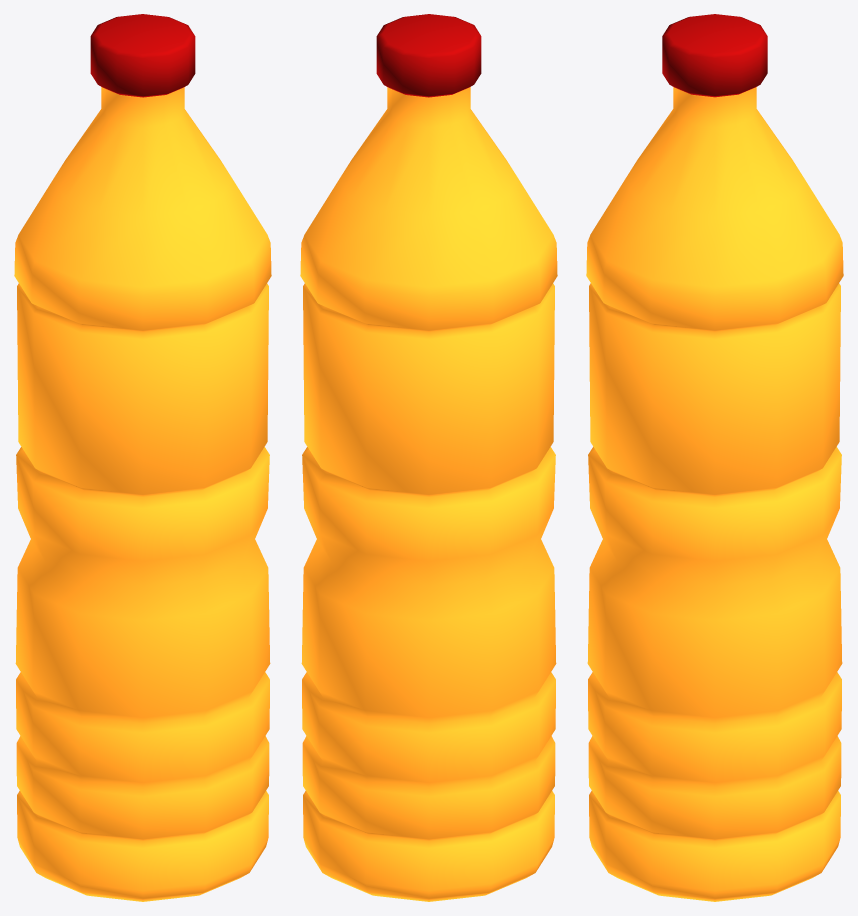
Rendered from bottle.fbx.
The picture shows the model from 3 angles, left to right: view 1: azimuth 30°, elevation 25°; view 2: azimuth 150°, elevation 25°; view 3: azimuth 270°, elevation 25°; orthographic projection.
Visible parts, largest first — view 1: Container_Bottle, Container_Bottle_Lid; view 2: Container_Bottle, Container_Bottle_Lid; view 3: Container_Bottle, Container_Bottle_Lid.
Part boxes in pixels (x1=…): Container_Bottle: x1=14, y1=87, x2=271, y2=901; Container_Bottle_Lid: x1=90, y1=14, x2=195, y2=97; Container_Bottle: x1=300, y1=87, x2=557, y2=901; Container_Bottle_Lid: x1=376, y1=14, x2=481, y2=97; Container_Bottle: x1=586, y1=87, x2=843, y2=901; Container_Bottle_Lid: x1=662, y1=14, x2=767, y2=97.
Size of the model in its own units: 14.71 by 51.89 by 14.71.
Materials: 2 (1 with a texture image).
